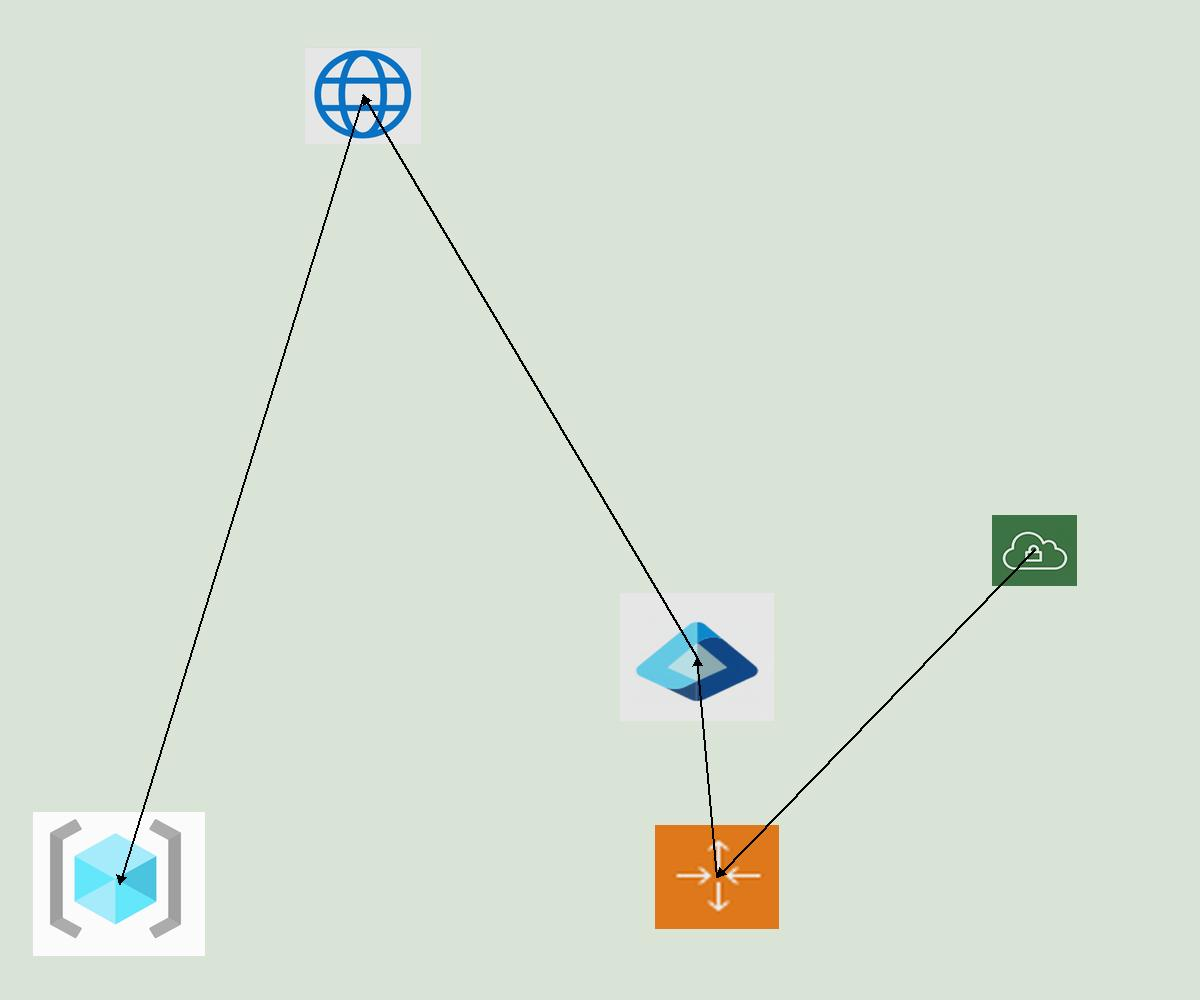AWS-Private_vpc: (992, 515, 1077, 586)
AWS-Scaling-group: (655, 825, 779, 929)
Azure_http: (305, 47, 421, 144)
Azure_microsoft_entra: (620, 593, 774, 721)
Azure_resource_group: (33, 812, 205, 956)
